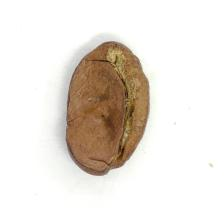NG: (71, 53, 143, 167)
